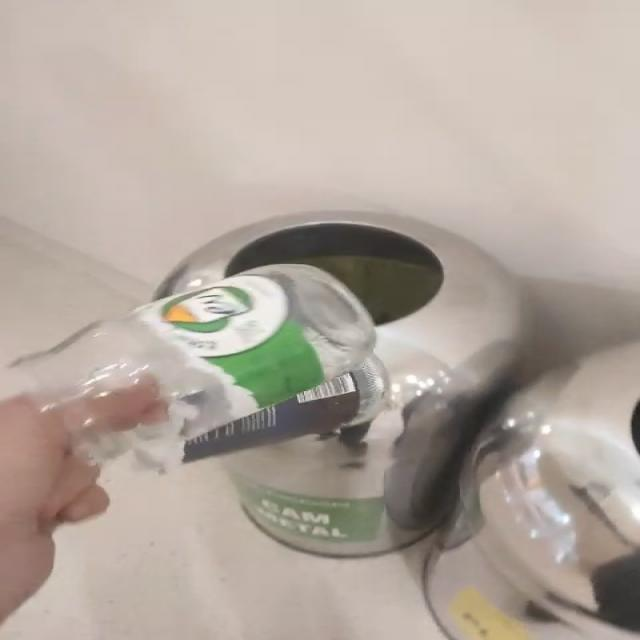glass: (11, 264, 388, 467)
